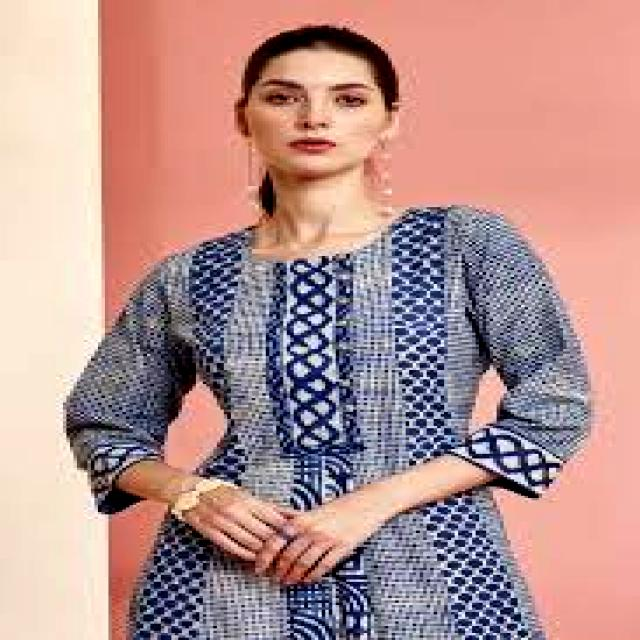dress: (67, 205, 591, 639)
